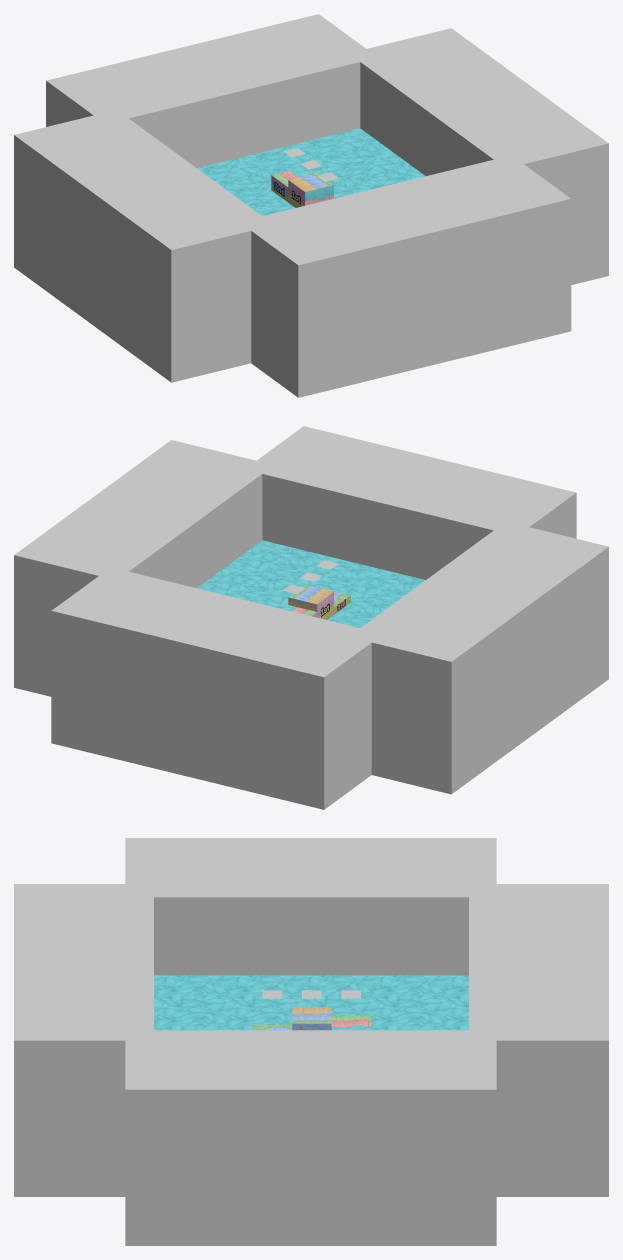
The model's file is stage.glb.
3 renders of one model, top to bottom at view 1: azimuth 30°, elevation 25°; view 2: azimuth 150°, elevation 25°; view 3: azimuth 270°, elevation 25°, orthographic. The views are drawn at different scales.
Parts seen in each view (by area): view 1: Cube.Invisible.007, Cube.Invisible.008, Cube.Invisible.006, Cube.Invisible.004, Cube, Cube.Stage; view 2: Cube.Invisible.006, Cube.Invisible.008, Cube.Invisible.007, Cube.Invisible.004, Cube, Cube.Stage; view 3: Cube.Invisible.004, Cube.Invisible.008, Cube.Invisible.006, Cube.Invisible.007, Cube, Cube.Stage.
Part boxes in pixels (x1,y1,x2,y2): Cube.Invisible.007: (239, 155, 571, 397); Cube.Invisible.008: (14, 115, 267, 382); Cube.Invisible.006: (46, 14, 377, 167); Cube.Invisible.004: (354, 28, 608, 284); Cube: (197, 128, 425, 215); Cube.Stage: (271, 168, 333, 207); Cube.Invisible.006: (51, 567, 382, 809); Cube.Invisible.008: (354, 527, 608, 794); Cube.Invisible.007: (244, 426, 576, 579); Cube.Invisible.004: (14, 440, 269, 696); Cube: (197, 540, 425, 627); Cube.Stage: (283, 585, 350, 619); Cube.Invisible.004: (125, 1030, 496, 1245); Cube.Invisible.008: (125, 838, 496, 975); Cube.Invisible.006: (469, 884, 608, 1196); Cube.Invisible.007: (14, 884, 153, 1196); Cube: (154, 975, 468, 1030); Cube.Stage: (253, 1007, 371, 1030).
Bounding box in the file's own units: 60.46 × 17.5 × 60.41.
2 materials, 2 textured.
